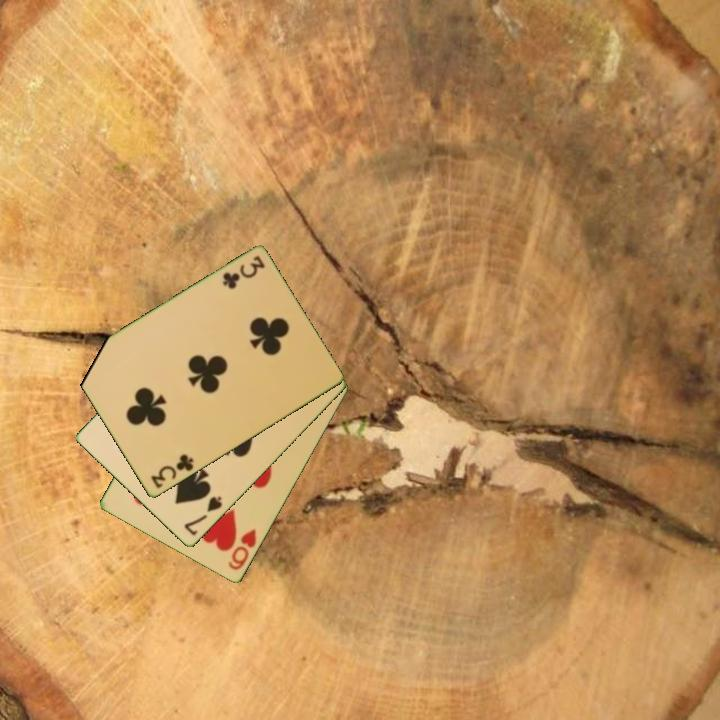3c: (147, 451, 197, 492), (219, 252, 268, 292)
6h: (225, 525, 259, 574)
7s: (180, 493, 225, 539)
